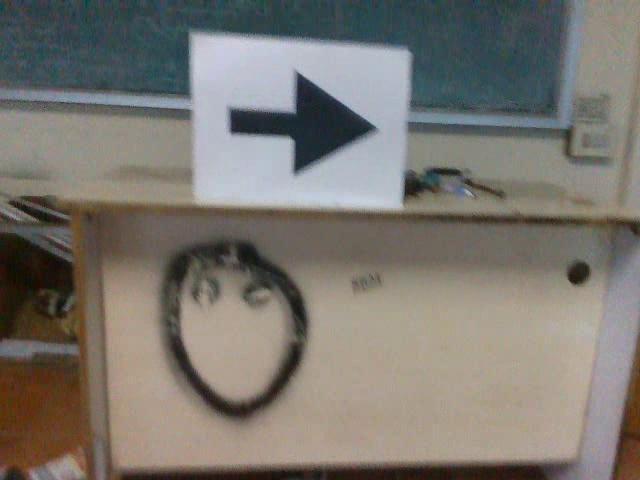Right: (212, 56, 382, 185)
